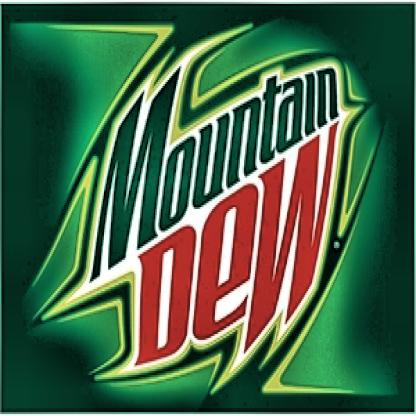Mountain Dew: (47, 19, 369, 392)
